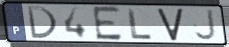4: (64, 6, 90, 40)
D: (25, 5, 59, 40)
E: (91, 5, 125, 42)
J: (194, 8, 218, 42)
L: (126, 7, 154, 41)
V: (155, 7, 184, 42)
